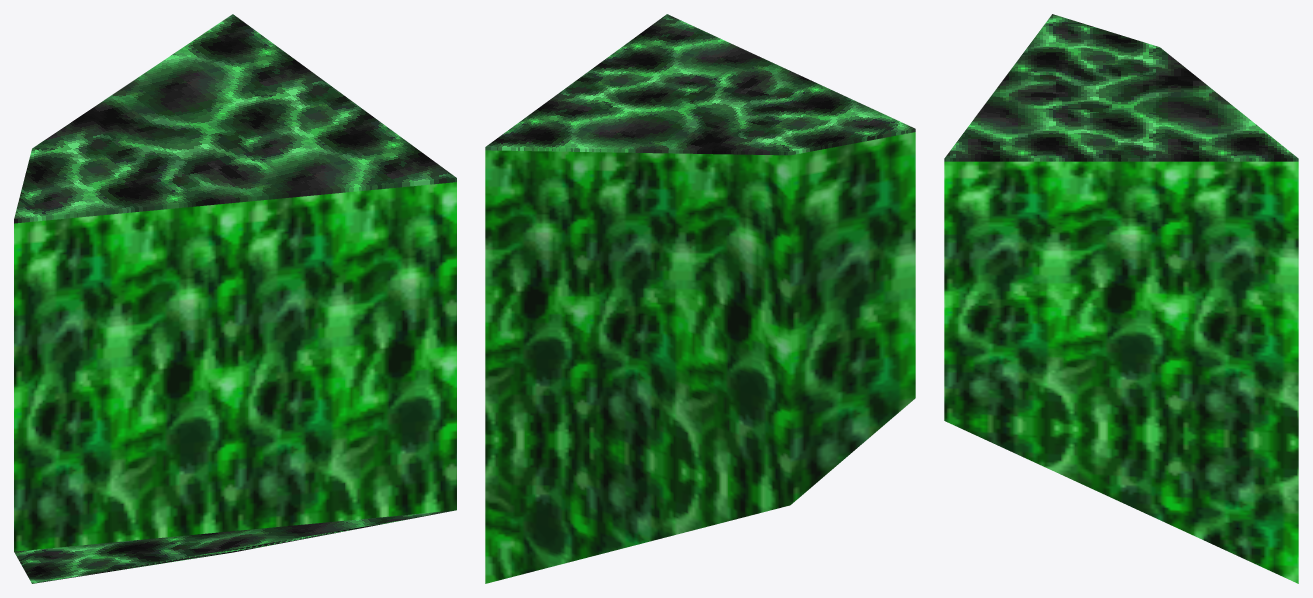
3 views of the same model, side by side, from view 1: azimuth 30°, elevation 25°; view 2: azimuth 150°, elevation 25°; view 3: azimuth 270°, elevation 25° (orthographic). The views are drawn at different scales.
Visible parts, largest first — view 1: kb3_d; view 2: kb3_d; view 3: kb3_d.
Boxes of the visible parts, x1,y1,x2,y2 form: kb3_d: [14, 14, 456, 583]; kb3_d: [485, 14, 915, 583]; kb3_d: [944, 14, 1298, 583].
Bounding box in the file's own units: 238 × 326 × 246.
Materials: 2 (2 with a texture image).
